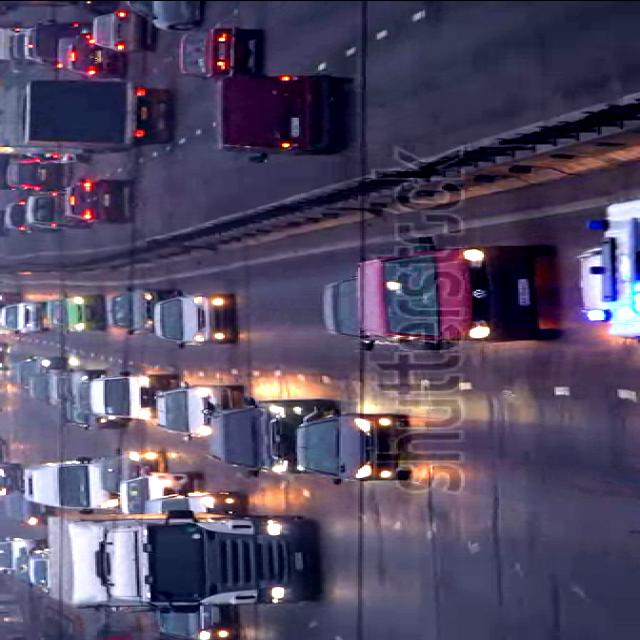ambulance: (577, 174, 640, 349)
